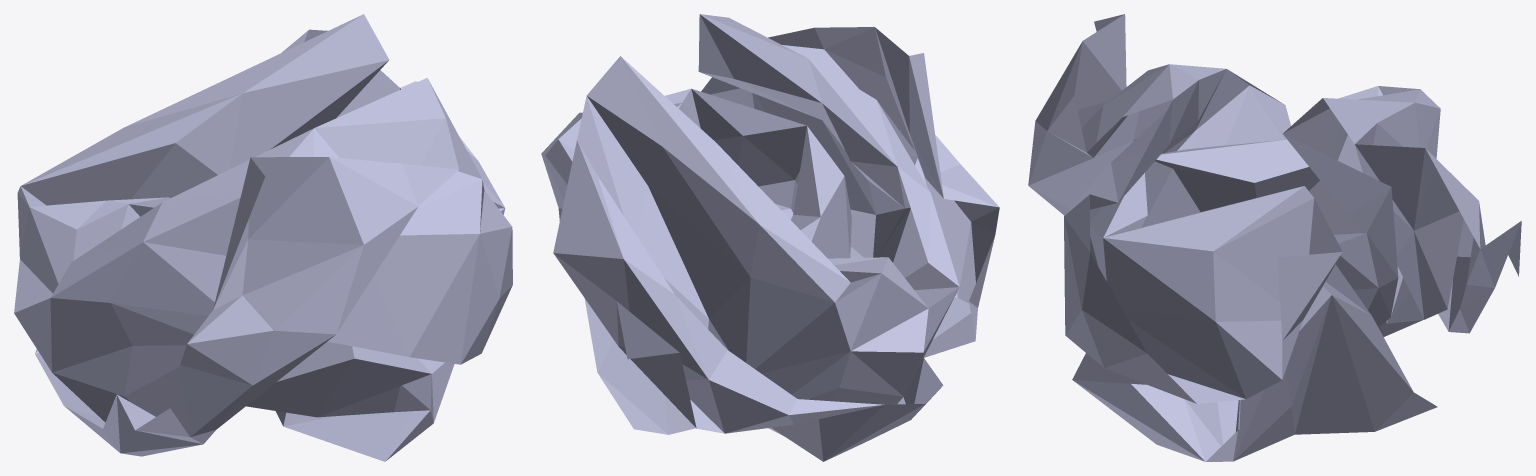
3 views of the same model, side by side, from view 1: azimuth 30°, elevation 25°; view 2: azimuth 150°, elevation 25°; view 3: azimuth 270°, elevation 25° (orthographic). The views are drawn at different scales.
Parts seen in each view (by area): view 1: paper3; view 2: paper3; view 3: paper3.
Part boxes in pixels (x1,y1,x2,y2): paper3: (14,14,512,461); paper3: (541,14,999,461); paper3: (1028,14,1521,461).
Size of the model in its own units: 0.0942 by 0.0805 by 0.0938.
